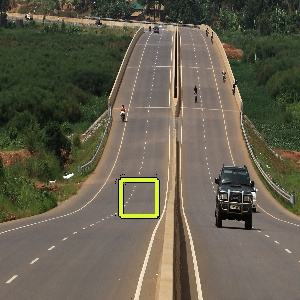square: (116, 175, 162, 220)
